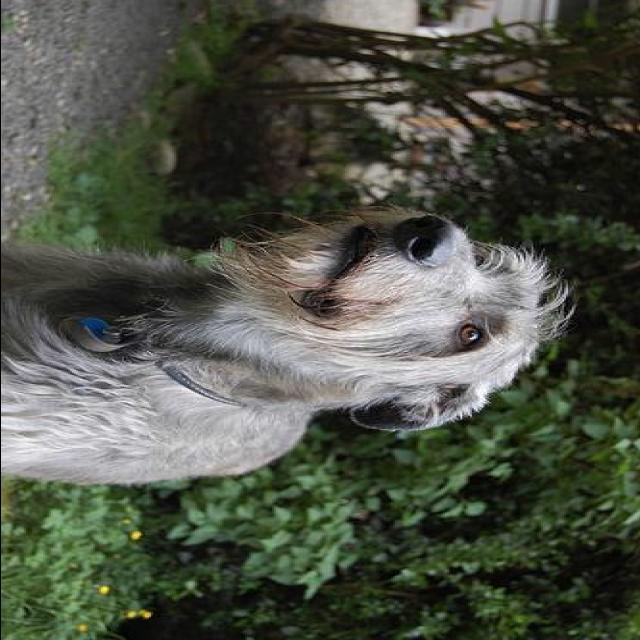irish_wolfhound: (2, 206, 576, 485)
